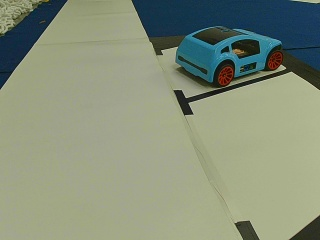car: (174, 27, 285, 86)
